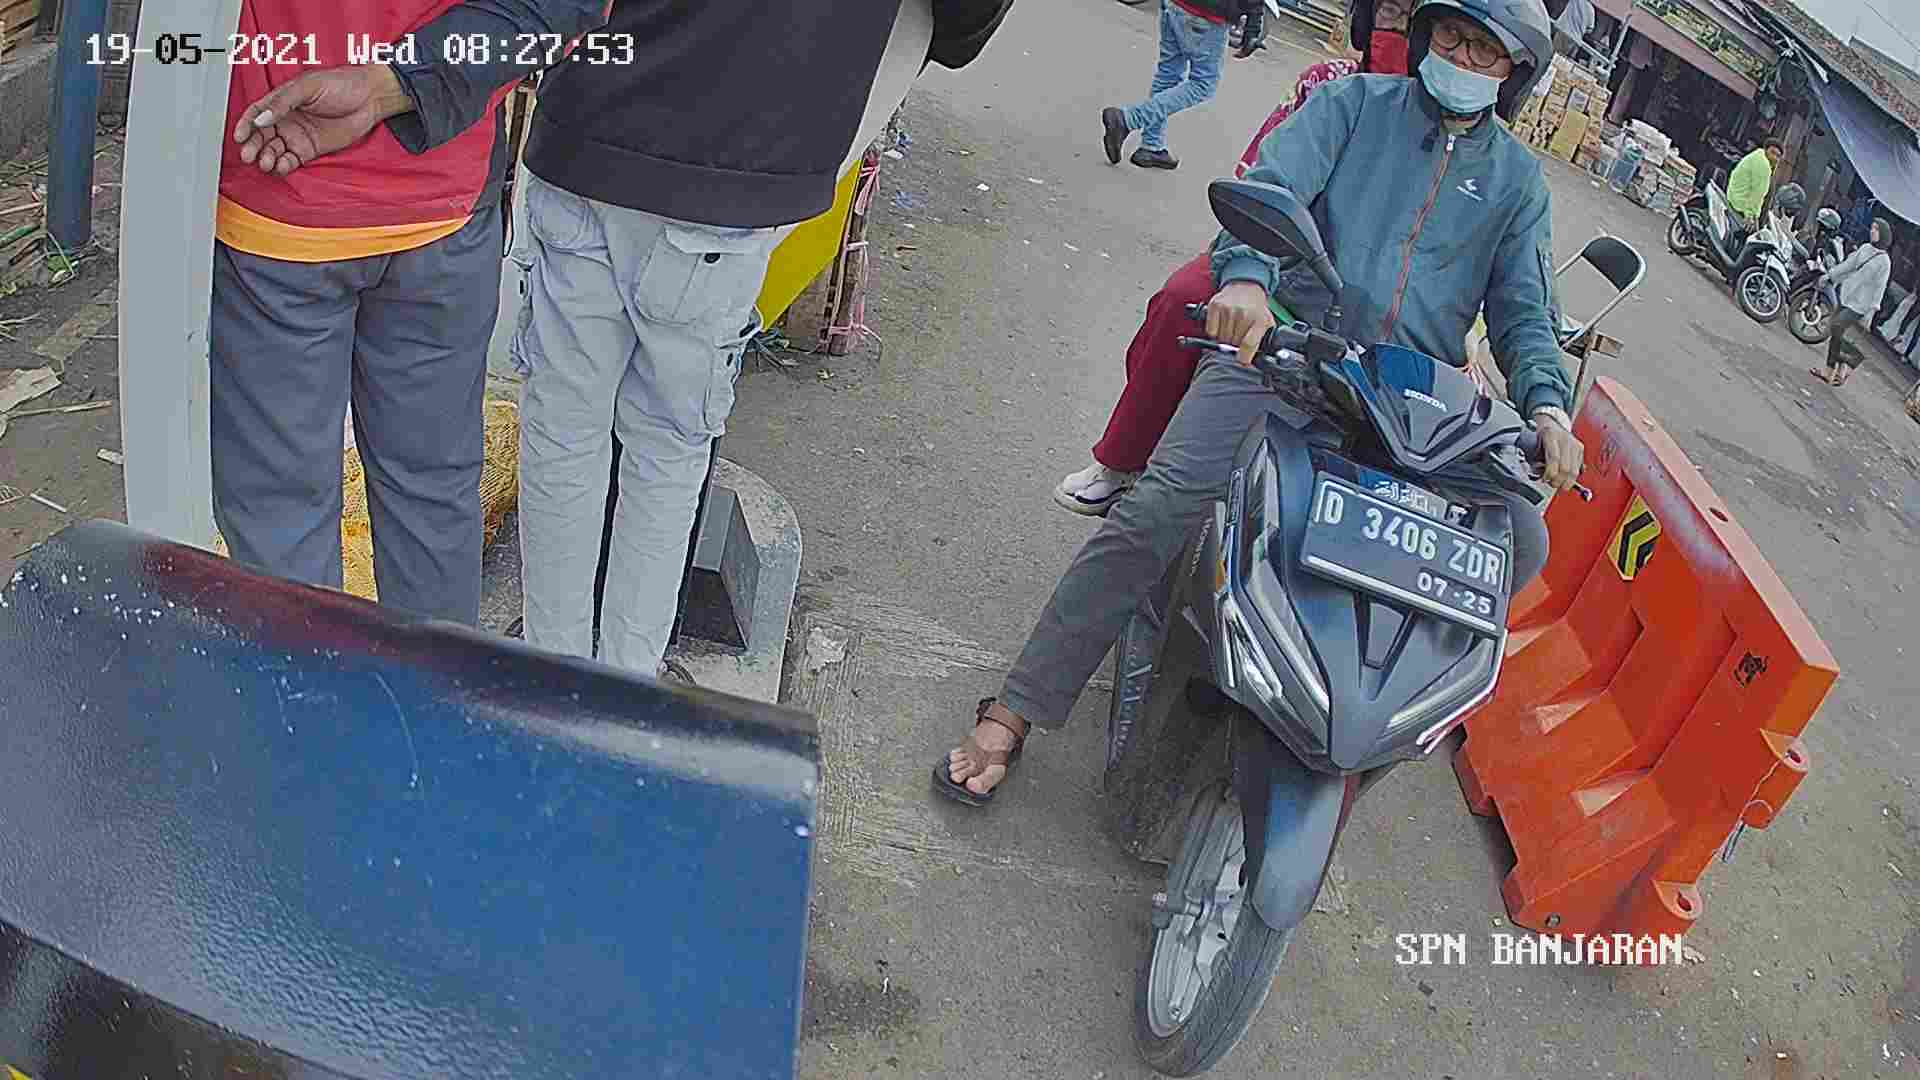motor: (1095, 284, 1553, 1077)
